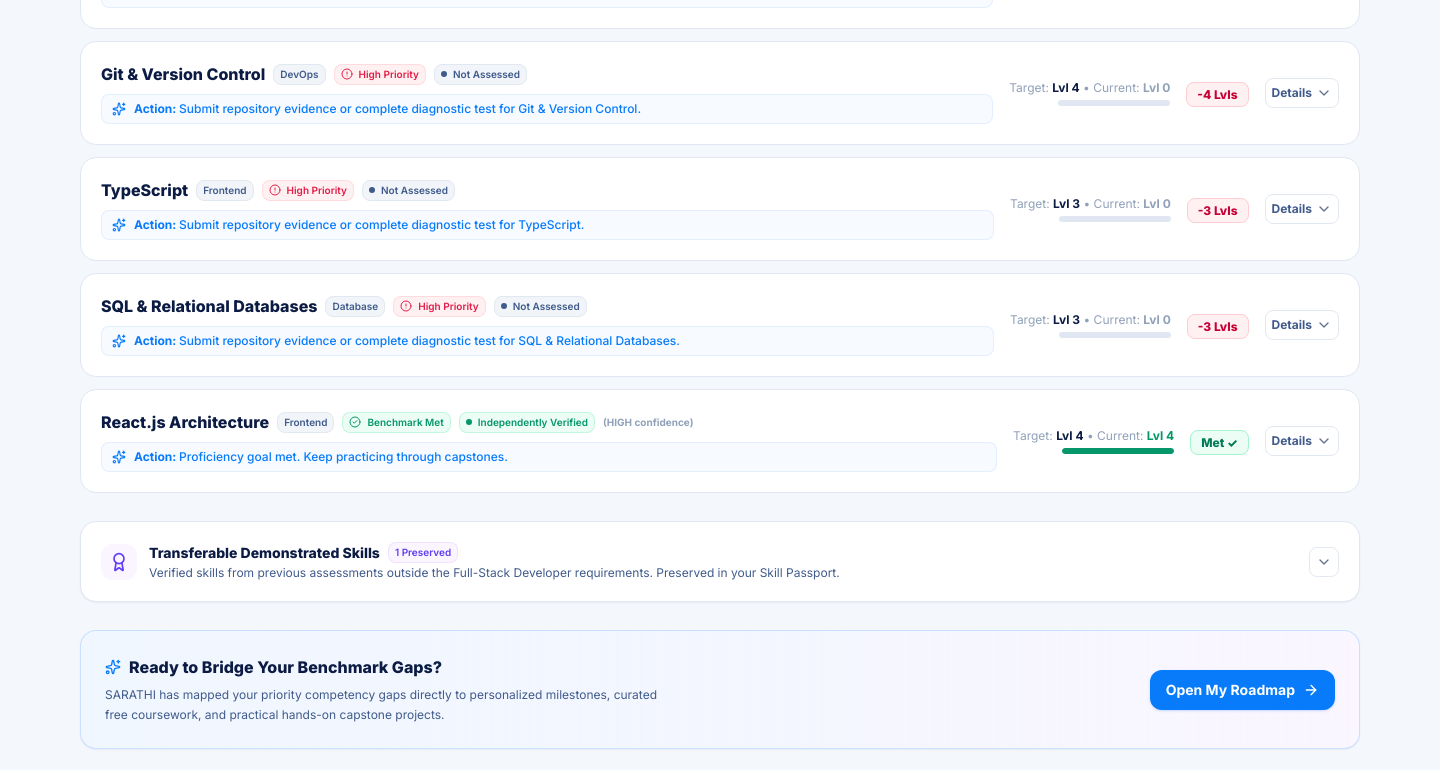
it: SARATHI — Skill Gap Analysis Redesign Suite › 9. Preserves and displays transferable skills under collapsible section
The image size is (1440, 770).
(page scrolled)
Expected: the heading "Transferable Demonstrated Skills" is shown, x1=149 y1=543 x2=380 y2=563
Expected: the text "1 Preserved" is shown, x1=395 y1=545 x2=451 y2=560
// Click to expand
Click the button "Transferable Demonstrated Skills". click: (119, 562)
box: x1=81 y1=522 x2=1359 y2=601
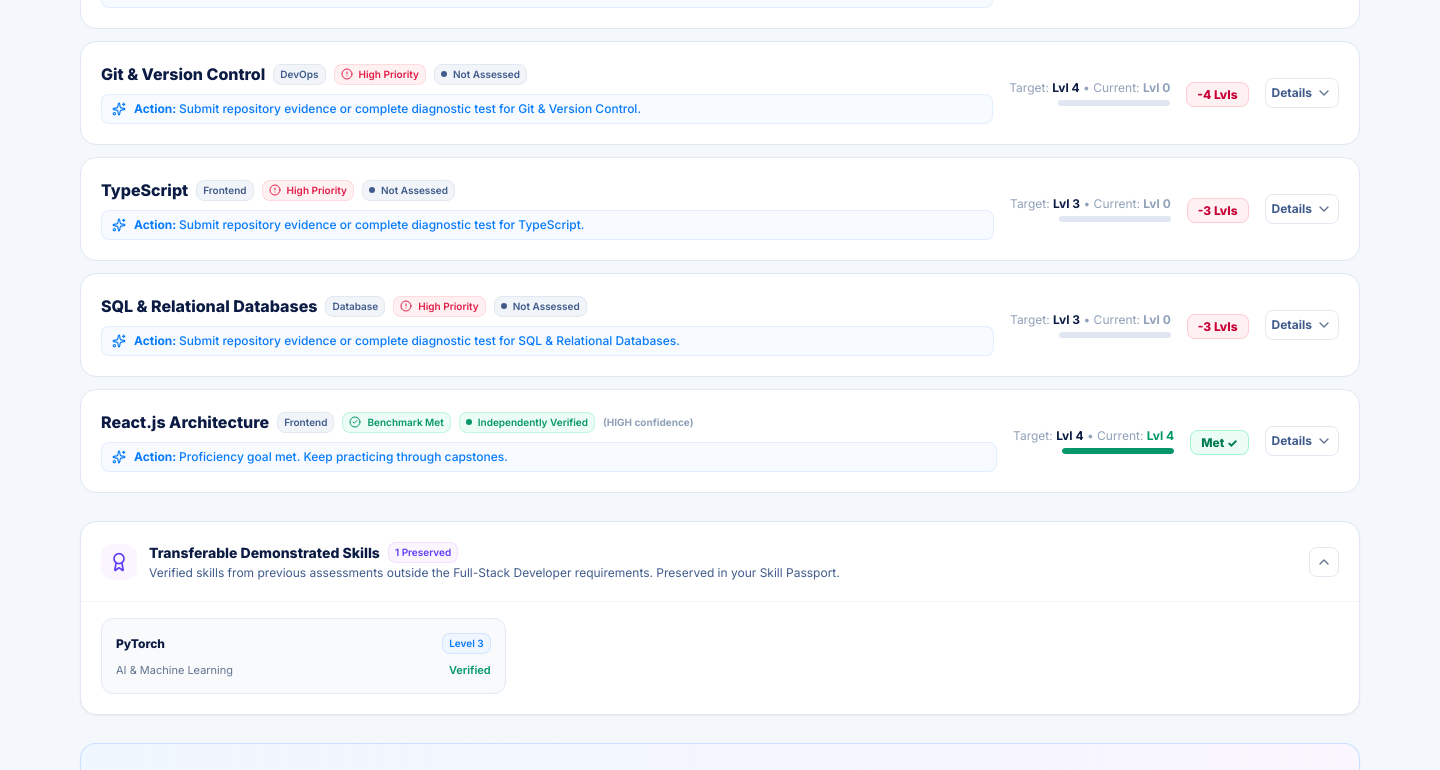
Now the text "PyTorch" is shown, box x1=116 y1=636 x2=165 y2=652
